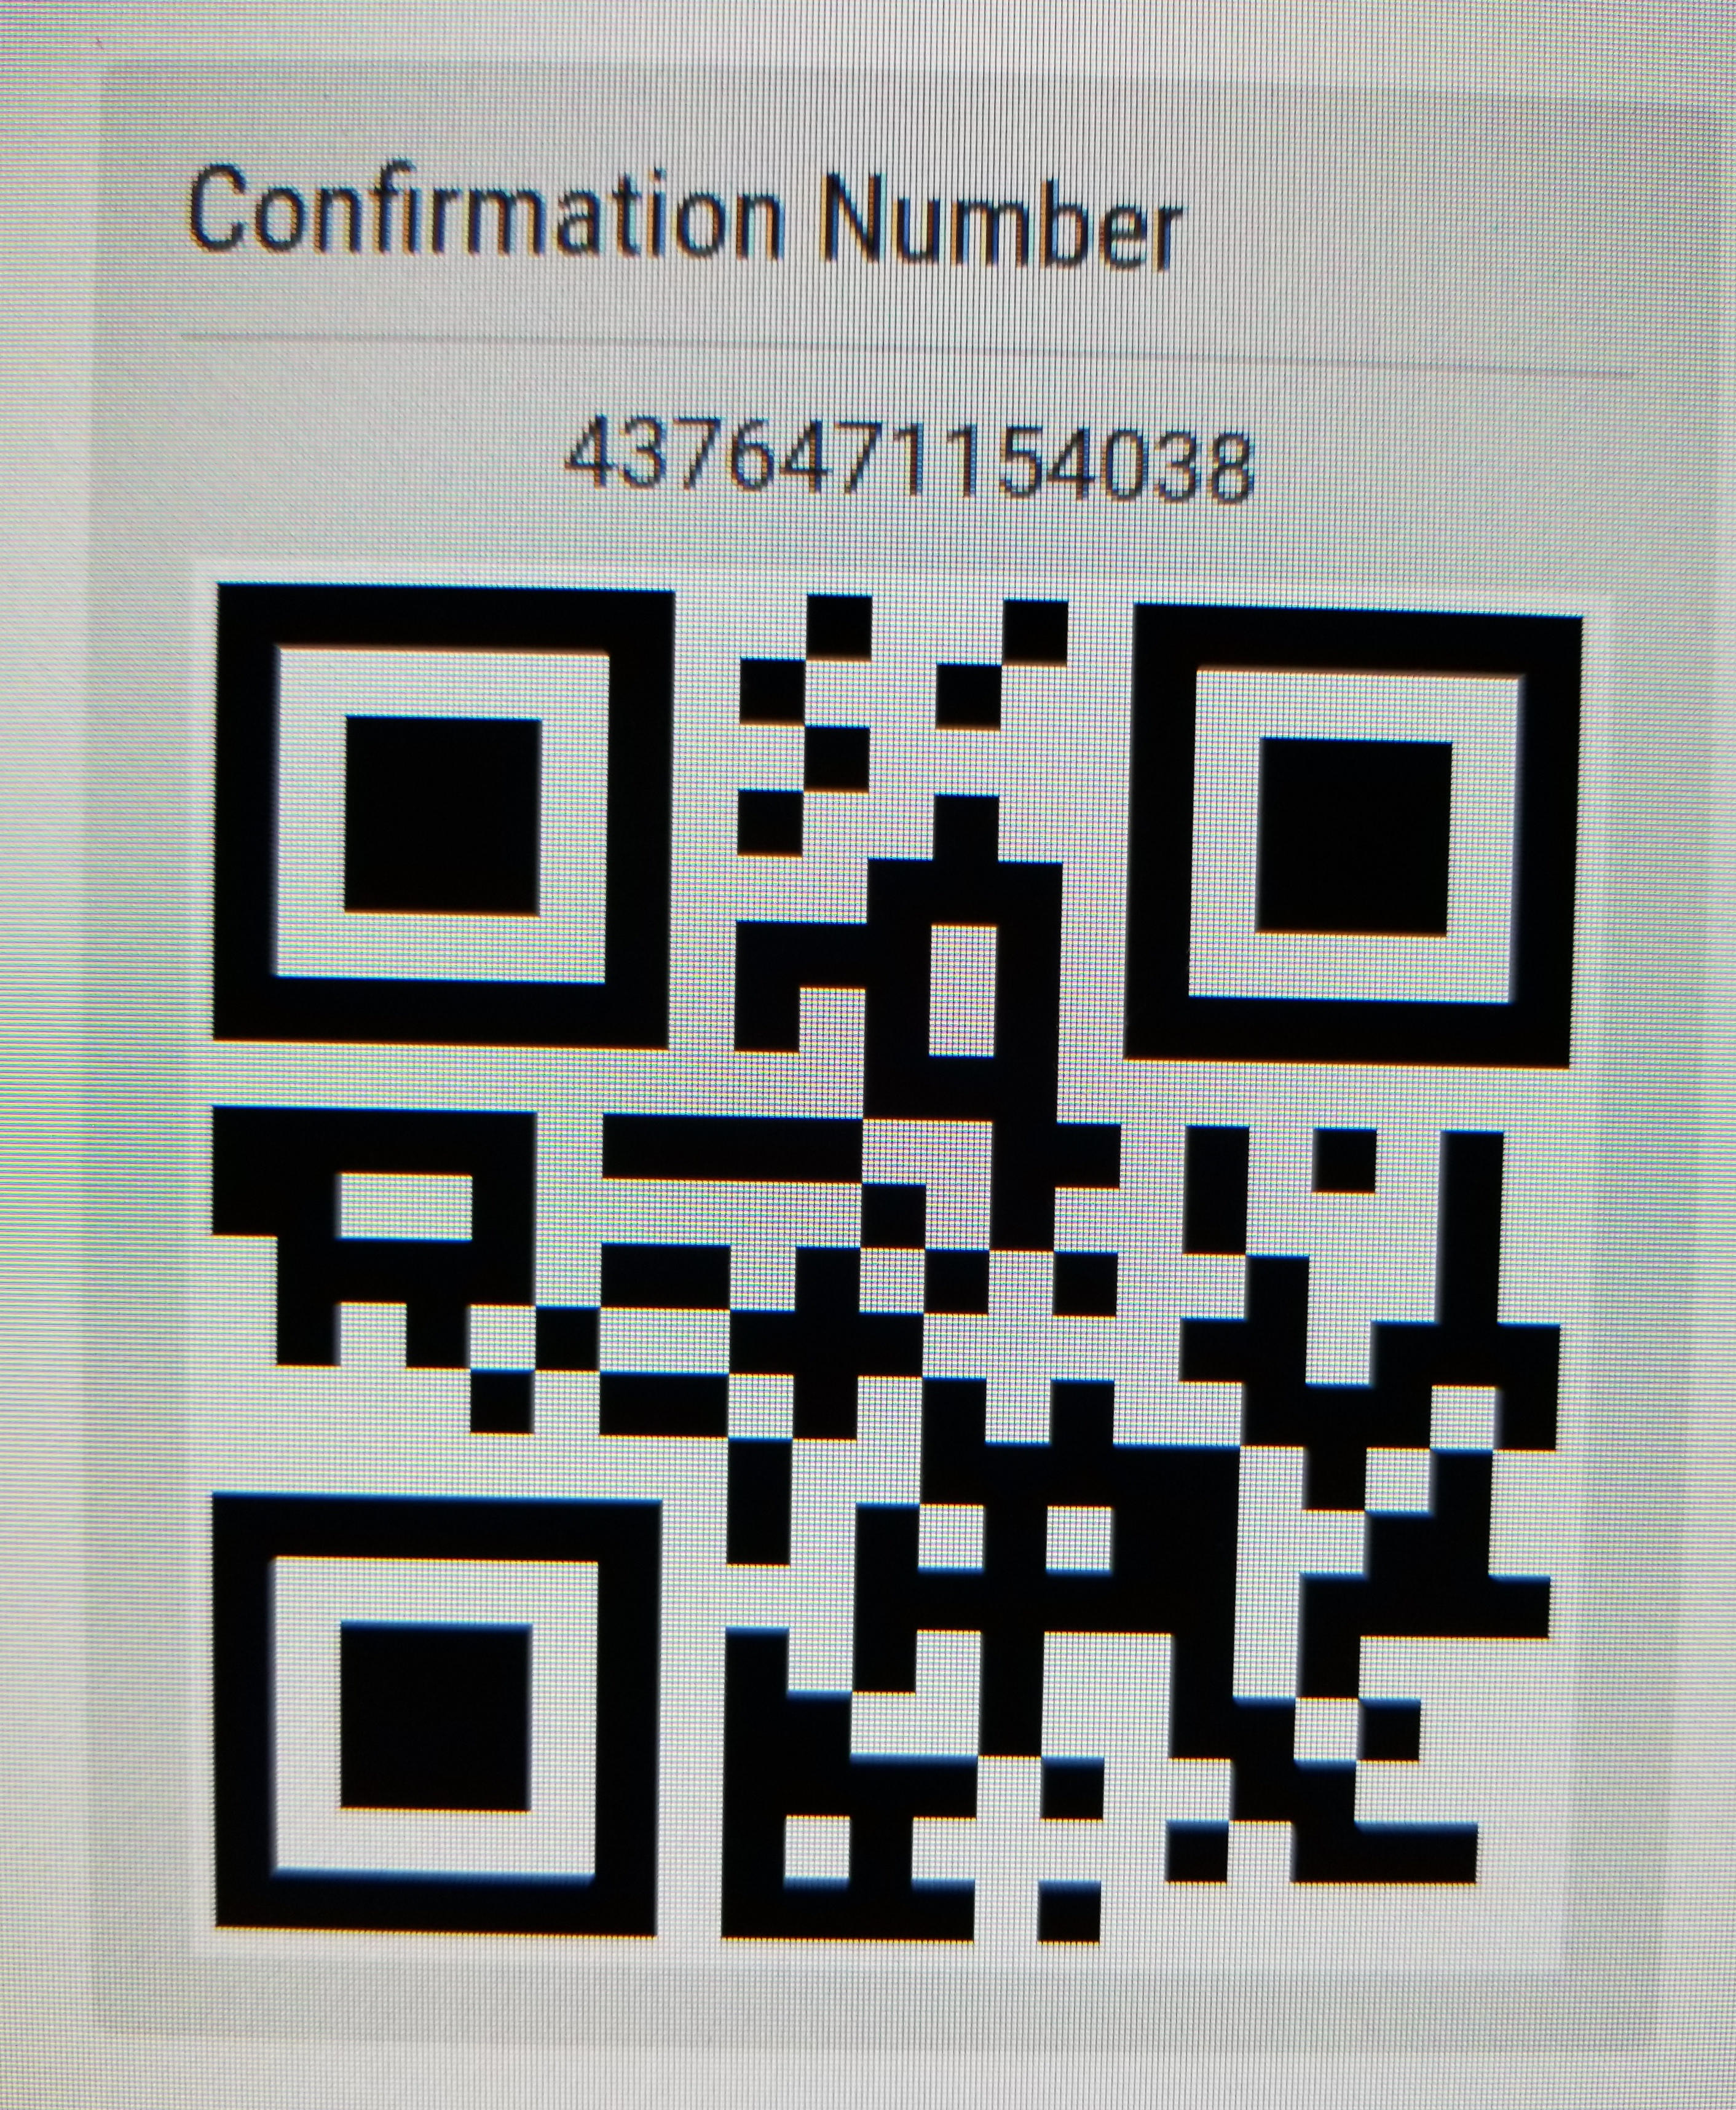QR_CODE: (166, 508, 1587, 1959)
